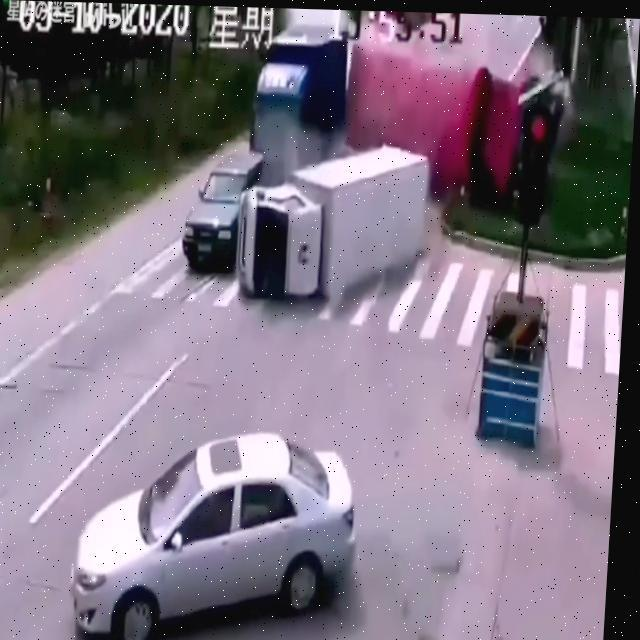normal: (70, 406, 379, 640)
single accident: (231, 147, 444, 306)
